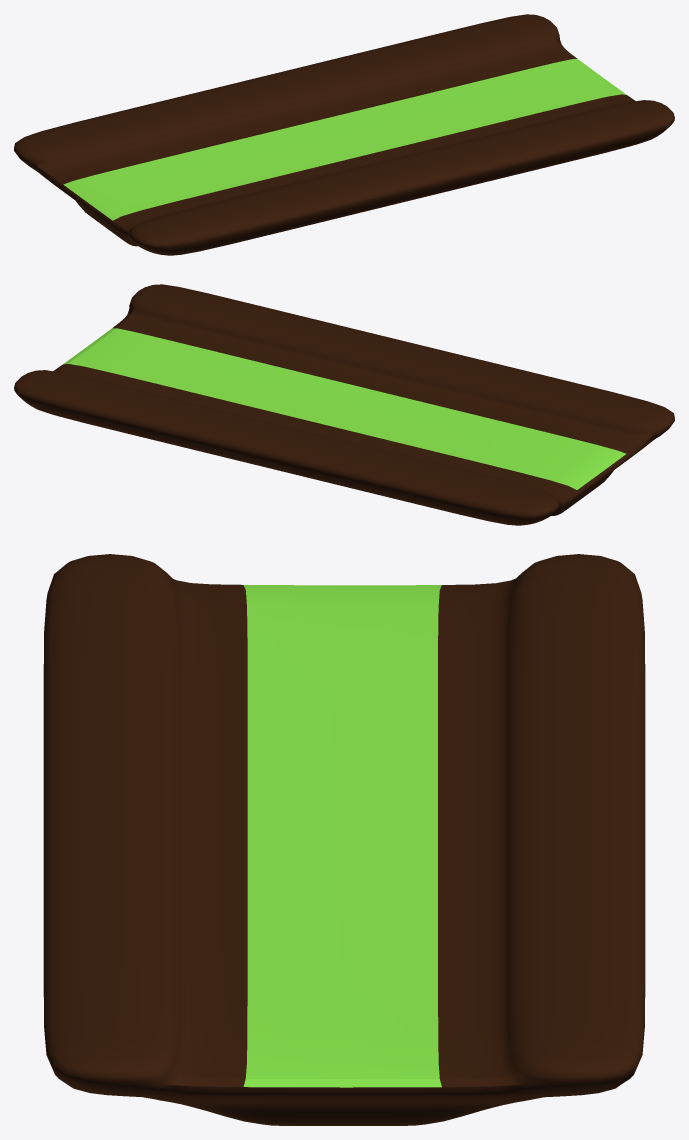
The model's file is platform_1.fbx.
The picture shows the model from 3 angles, top to bottom: view 1: azimuth 30°, elevation 25°; view 2: azimuth 150°, elevation 25°; view 3: azimuth 270°, elevation 25°; orthographic projection. The views are drawn at different scales.
Visible parts, largest first — view 1: Cube.006; view 2: Cube.006; view 3: Cube.006.
Part boxes in pixels (x1=…): Cube.006: x1=14, y1=14, x2=674, y2=255; Cube.006: x1=14, y1=284, x2=674, y2=525; Cube.006: x1=43, y1=554, x2=645, y2=1125.
Bounding box in the file's own units: 547 × 1121 × 110.
